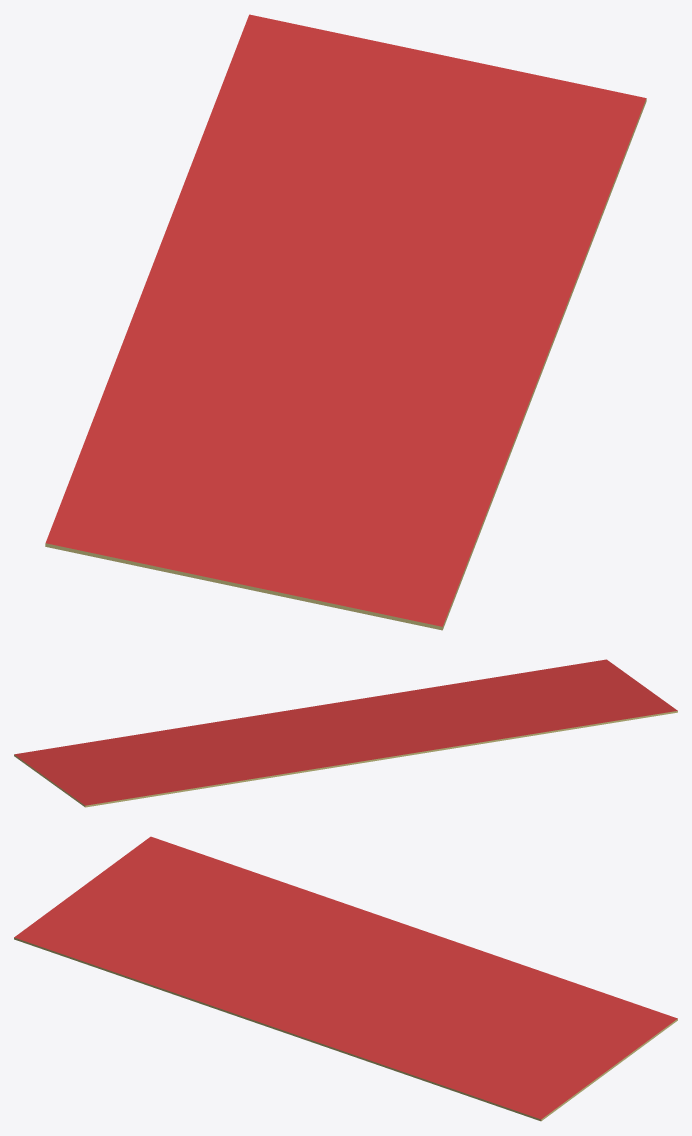
3 renders of one model, top to bottom at view 1: azimuth 30°, elevation 25°; view 2: azimuth 150°, elevation 25°; view 3: azimuth 270°, elevation 25°, orthographic. The views are drawn at different scales.
Size of the model in its own units: 27.75 by 30.81 by 1.65.
